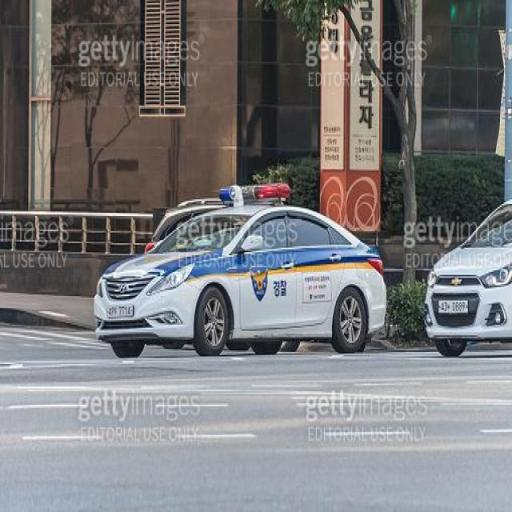Ambulance: (90, 183, 386, 358)
